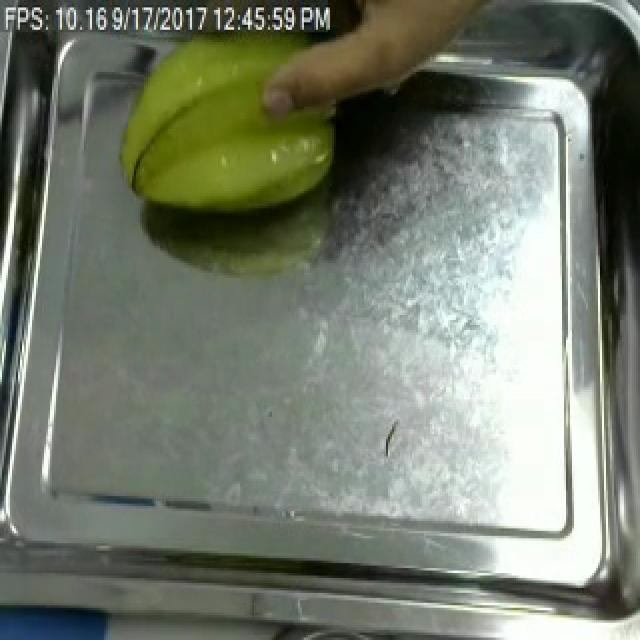fruit: (104, 15, 350, 228)
